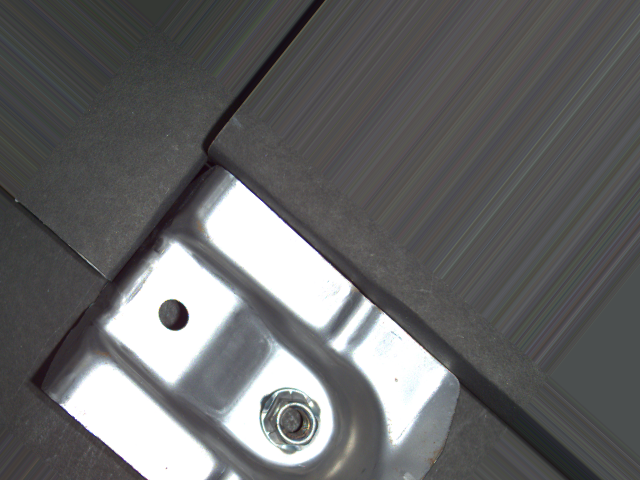good: (255, 386, 323, 457)
